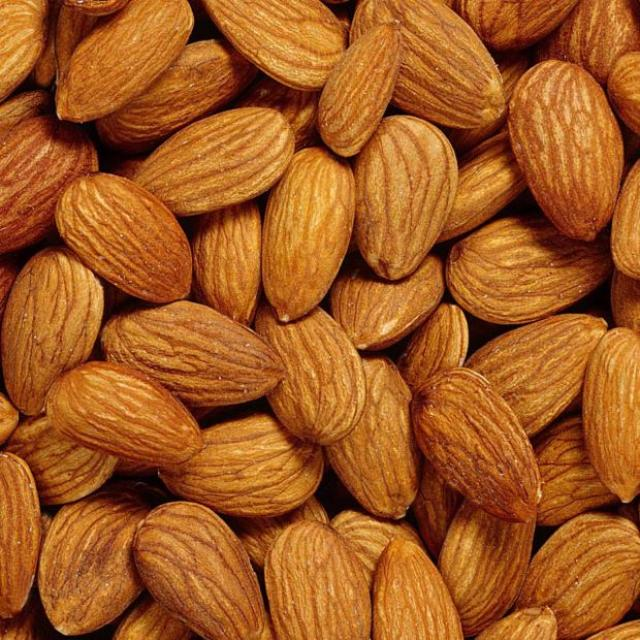cekirdek: (180, 348, 355, 558), (186, 116, 393, 287)
